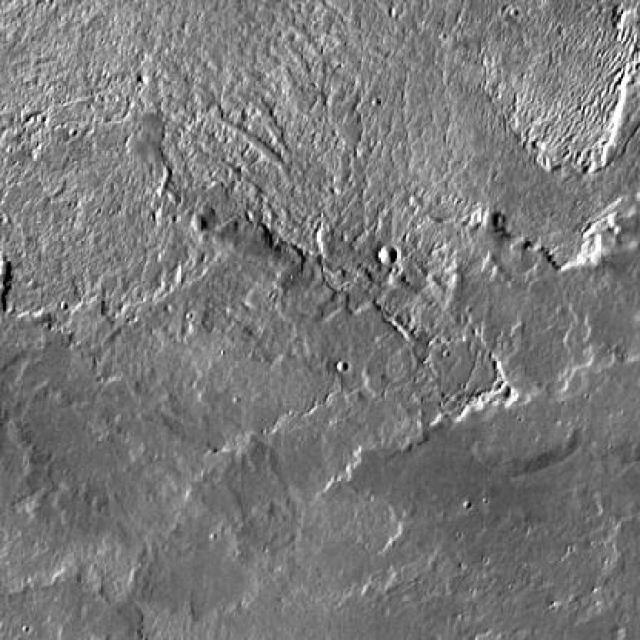crater: (380, 248, 398, 264)
